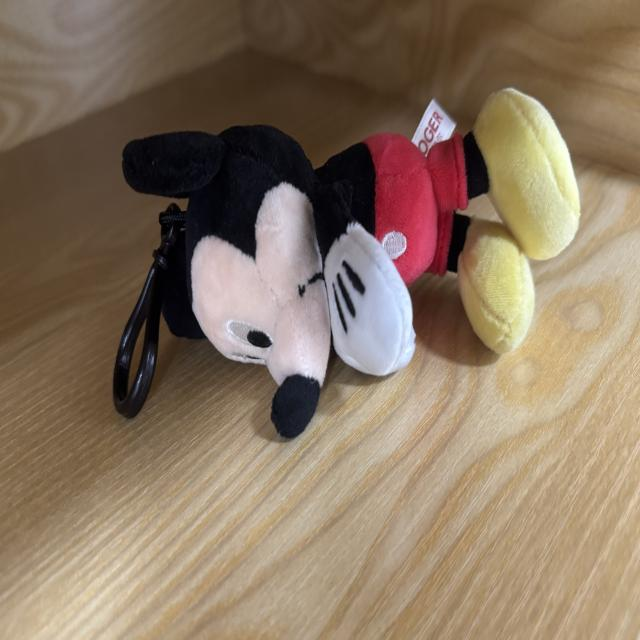mickey: (124, 90, 579, 437)
